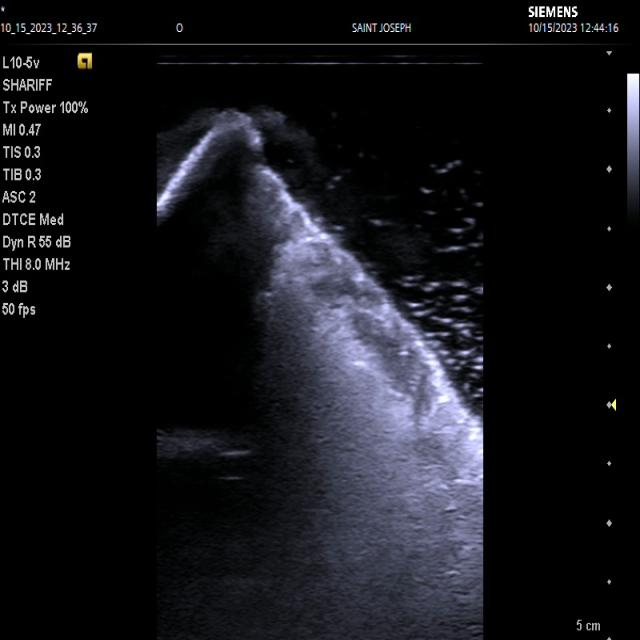tissue: (152, 111, 484, 640)
